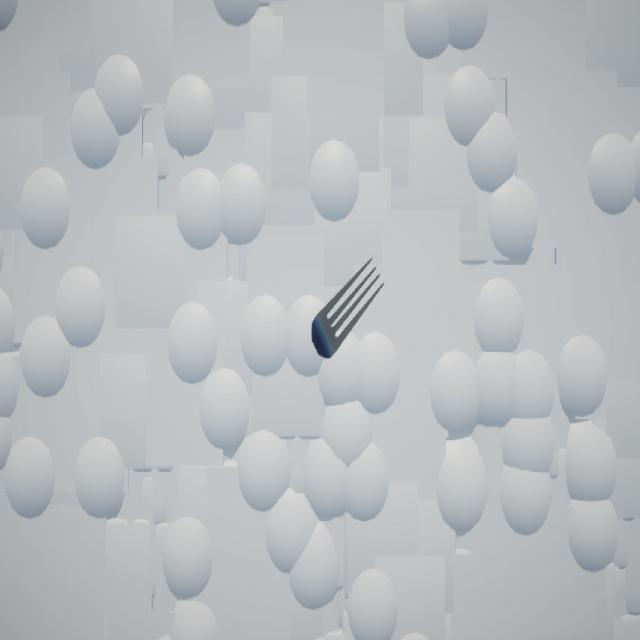top_folk: (313, 259, 386, 361)
